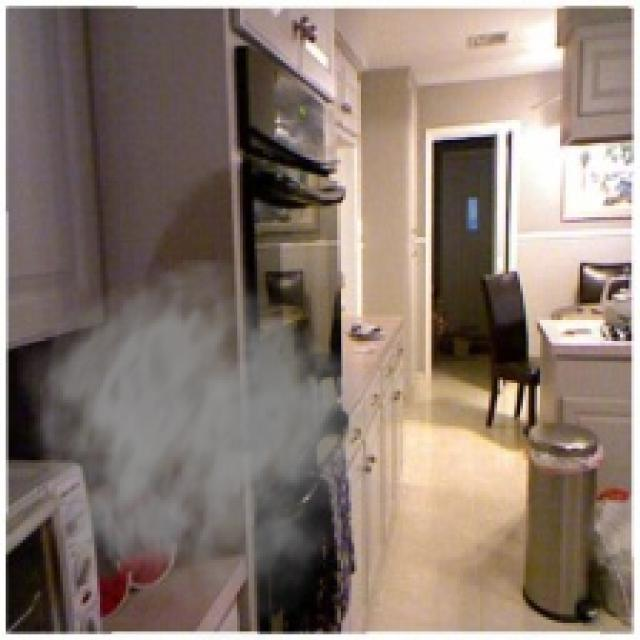smoke: (17, 257, 397, 637)
